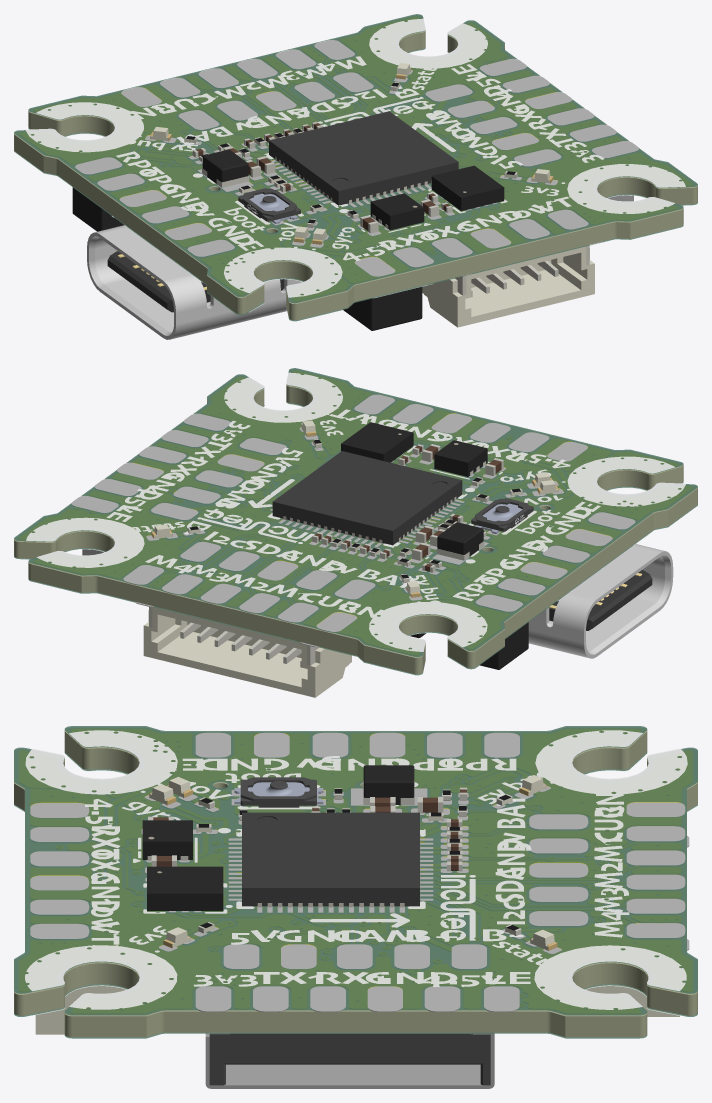
Rendered from board.glb.
3 views of the same model, one above another, from view 1: azimuth 30°, elevation 25°; view 2: azimuth 150°, elevation 25°; view 3: azimuth 270°, elevation 25° (orthographic). The views are drawn at different scales.
Parts seen in each view (by area): view 1: board_soldermask (×2), board_copper, board_silkscreen, board_PCB, board_pad, RP2350A-QFN60, USB-TYPE-C-SMD_TYPE-C-16P-QTWT, JST_SH_SM06B-SRSS-TB_1x06-1MP_P1.00mm_Horizontal, L_Changjiang_FTC303020D (×2), Bosch_LGA_14_3x25mm_P05mm, WSON_6_1EP_2x2mm_P065mm_EP1x16mm, SW-SMD_4P-L3.0-W2.0-P0.85-LS3.5 (+1 smaller); view 2: board_soldermask (×2), board_copper, board_silkscreen, board_PCB, board_pad, RP2350A-QFN60, JST_SH_SM08B-SRSS-TB_1x08-1MP_P1.00mm_Horizontal, USB-TYPE-C-SMD_TYPE-C-16P-QTWT, Bosch_LGA_14_3x25mm_P05mm, WSON_6_1EP_2x2mm_P065mm_EP1x16mm, SW-SMD_4P-L3.0-W2.0-P0.85-LS3.5, L_Murata_DFE201610P (+1 smaller); view 3: board_soldermask (×2), board_copper, board_silkscreen, board_PCB, board_pad, RP2350A-QFN60, TF-SMD_TF-021B-H265, Bosch_LGA_14_3x25mm_P05mm, SW-SMD_4P-L3.0-W2.0-P0.85-LS3.5, WSON_6_1EP_2x2mm_P065mm_EP1x16mm, L_Murata_DFE201610P, JST_SH_SM06B-SRSS-TB_1x06-1MP_P1.00mm_Horizontal (+1 smaller).
Part boxes in pixels (box(x1,y1,x2,y2)): board_soldermask (×2): box(14, 14, 697, 321); board_copper: box(19, 17, 692, 301); board_silkscreen: box(25, 18, 685, 297); board_PCB: box(14, 15, 697, 320); board_pad: box(75, 40, 638, 276); RP2350A-QFN60: box(269, 111, 458, 205); USB-TYPE-C-SMD_TYPE-C-16P-QTWT: box(87, 225, 302, 339); JST_SH_SM06B-SRSS-TB_1x06-1MP_P1.00mm_Horizontal: box(422, 245, 594, 327); L_Changjiang_FTC303020D (×2): box(72, 187, 422, 330); Bosch_LGA_14_3x25mm_P05mm: box(431, 165, 504, 211); WSON_6_1EP_2x2mm_P065mm_EP1x16mm: box(370, 193, 424, 230); SW-SMD_4P-L3.0-W2.0-P0.85-LS3.5: box(238, 188, 300, 223); board_soldermask (×2): box(14, 368, 697, 675); board_copper: box(19, 371, 692, 655); board_silkscreen: box(26, 372, 685, 651); board_PCB: box(14, 369, 697, 674); board_pad: box(71, 394, 635, 647); RP2350A-QFN60: box(272, 451, 462, 545); JST_SH_SM08B-SRSS-TB_1x08-1MP_P1.00mm_Horizontal: box(143, 606, 351, 697); USB-TYPE-C-SMD_TYPE-C-16P-QTWT: box(528, 544, 673, 658); Bosch_LGA_14_3x25mm_P05mm: box(341, 422, 413, 462); WSON_6_1EP_2x2mm_P065mm_EP1x16mm: box(434, 440, 487, 476); SW-SMD_4P-L3.0-W2.0-P0.85-LS3.5: box(471, 498, 533, 533); L_Murata_DFE201610P: box(436, 522, 484, 560); board_soldermask (×2): box(14, 726, 697, 1038); board_copper: box(19, 729, 692, 1013); board_silkscreen: box(25, 730, 687, 1009); board_PCB: box(14, 728, 697, 1037); board_pad: box(30, 733, 689, 1011); RP2350A-QFN60: box(242, 812, 420, 907); TF-SMD_TF-021B-H265: box(205, 1033, 494, 1088); Bosch_LGA_14_3x25mm_P05mm: box(147, 866, 223, 910); SW-SMD_4P-L3.0-W2.0-P0.85-LS3.5: box(234, 777, 323, 807); WSON_6_1EP_2x2mm_P065mm_EP1x16mm: box(142, 820, 192, 860); L_Murata_DFE201610P: box(363, 765, 414, 804); JST_SH_SM06B-SRSS-TB_1x06-1MP_P1.00mm_Horizontal: box(35, 986, 125, 1034).
Bounding box in the file's own units: 0.0279 × 0.00538 × 0.0269.
